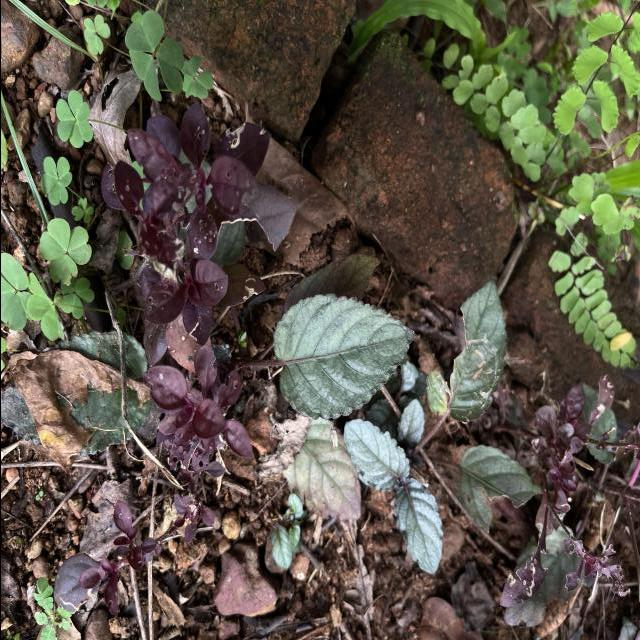Hemigraphis colorata: (268, 290, 418, 424), (390, 472, 446, 578), (340, 416, 412, 494)
